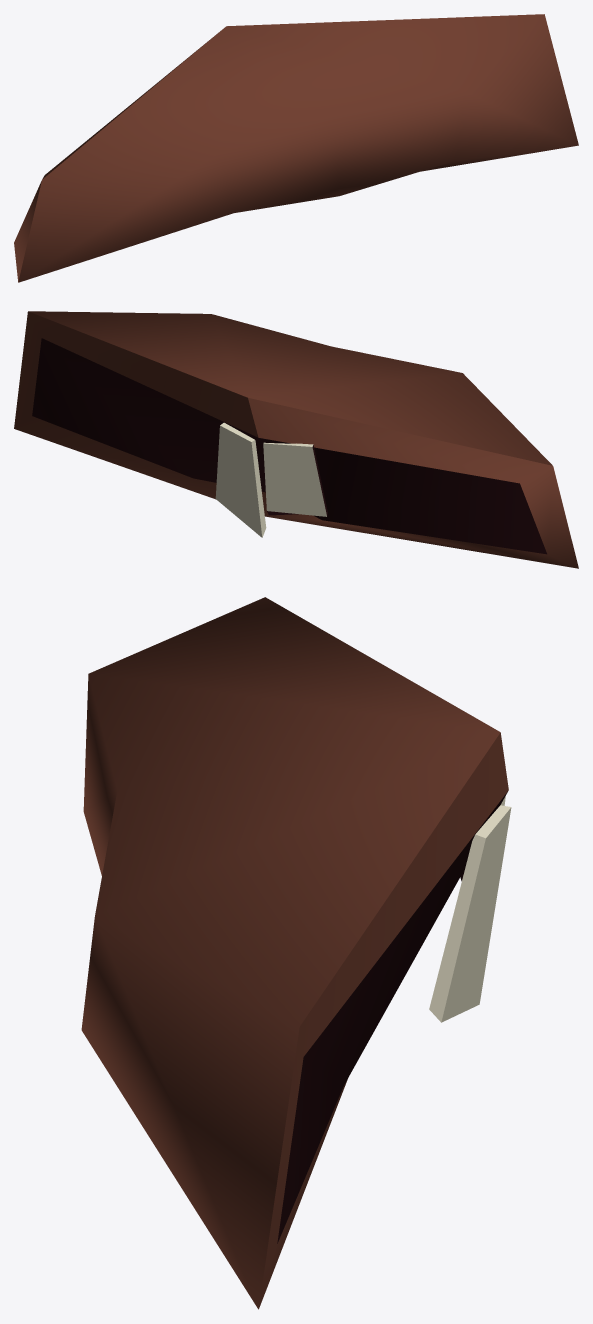
The model's file is GobMouth4.fbx.
3 renders of one model, top to bottom at view 1: azimuth 30°, elevation 25°; view 2: azimuth 150°, elevation 25°; view 3: azimuth 270°, elevation 25°, orthographic. The views are drawn at different scales.
Parts seen in each view (by area): view 1: Cone.001; view 2: Cone.001; view 3: Cone.001.
Part boxes in pixels (x1,y1,x2,y2): Cone.001: (14, 14, 578, 282); Cone.001: (14, 311, 578, 568); Cone.001: (81, 597, 511, 1309).
Bounding box in the file's own units: 0.1175 × 0.0296 × 0.0391.
